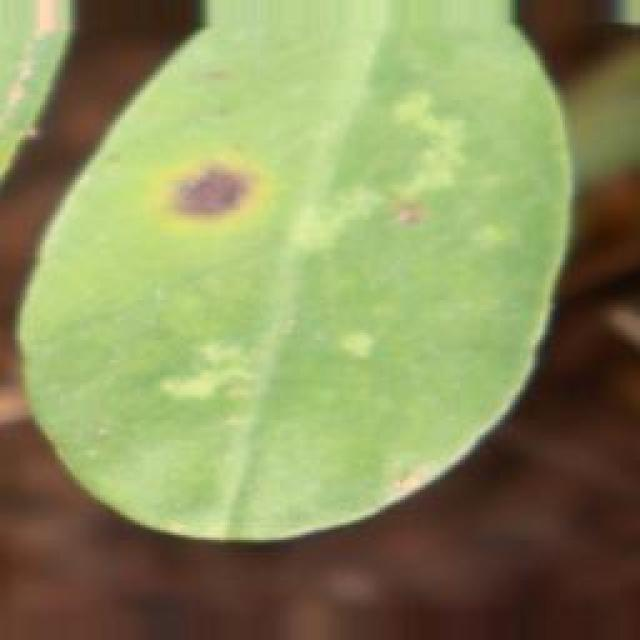Sigatoka: (151, 138, 287, 250), (364, 186, 436, 261)
